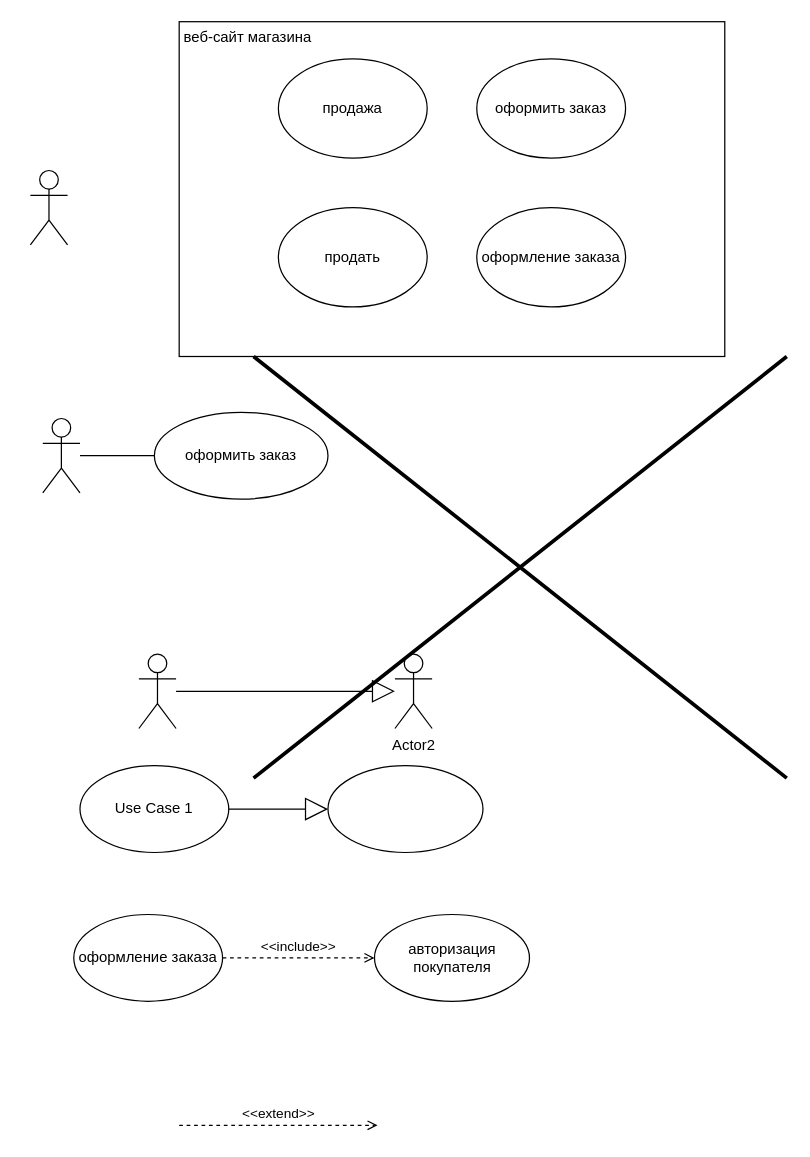
This 810x1157 diagram has some shape labels left out. Each missing label, with the centre of its shape:
"Actor1" goes at (157,690).
"Use Case 2" goes at (405,808).
"Покупатель" goes at (61,455).
"Роль" goes at (48,207).
